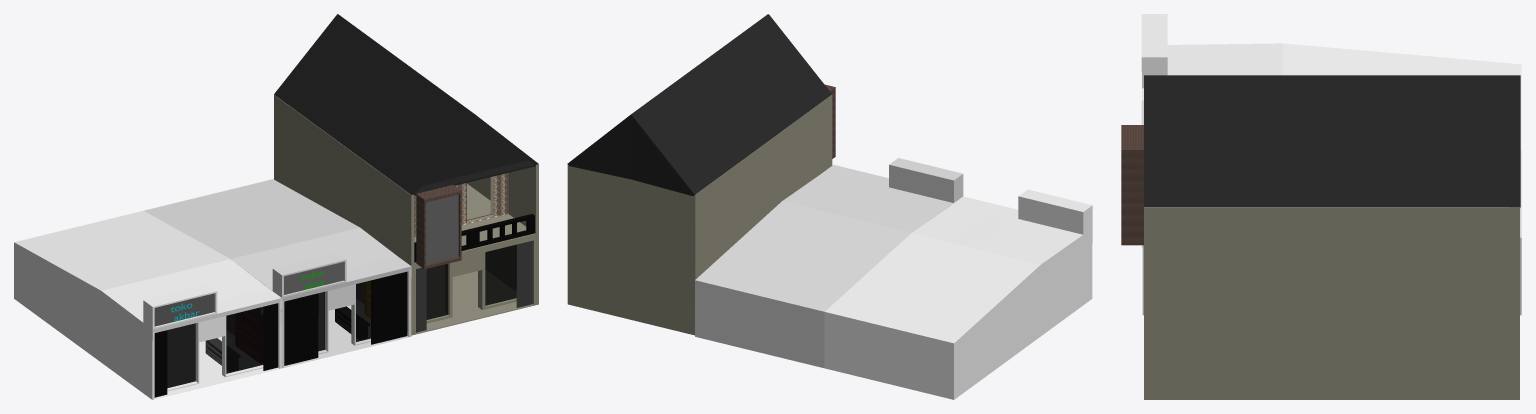
File: rumah&ruko.glb
The picture shows the model from 3 angles, left to right: view 1: azimuth 30°, elevation 25°; view 2: azimuth 150°, elevation 25°; view 3: azimuth 270°, elevation 25°; orthographic projection. The views are drawn at different scales.
Visible parts, largest first — view 1: Cube.004_10, Cube.005_11, Cube.020_2, Cube.015_6, warehouse_door.004_0, Cube.010_19, Cube.008_14, Cube.007_13, warehouse_door.005_18, Cube.022_1, Cube.011_20, Cube.006_12 (+5 smaller); view 2: Cube.004_10, Cube.015_6, Cube.020_2, Cube.005_11; view 3: Cube.020_2, Cube.005_11, Cube.004_10, Cube.022_1, Cube.015_6.
Boxes of the visible parts, x1=… form: Cube.004_10: x1=14, y1=210, x2=282, y2=399; Cube.005_11: x1=274, y1=14, x2=538, y2=195; Cube.020_2: x1=274, y1=95, x2=538, y2=335; Cube.015_6: x1=144, y1=179, x2=411, y2=368; warehouse_door.004_0: x1=284, y1=271, x2=407, y2=365; Cube.010_19: x1=167, y1=306, x2=263, y2=388; Cube.008_14: x1=426, y1=244, x2=516, y2=319; Cube.007_13: x1=426, y1=194, x2=458, y2=264; warehouse_door.005_18: x1=154, y1=303, x2=277, y2=397; Cube.022_1: x1=416, y1=184, x2=461, y2=269; Cube.011_20: x1=318, y1=280, x2=370, y2=351; Cube.006_12: x1=414, y1=214, x2=534, y2=262; Cube.004_10: x1=824, y1=189, x2=1092, y2=399; Cube.015_6: x1=695, y1=158, x2=963, y2=368; Cube.020_2: x1=567, y1=95, x2=832, y2=335; Cube.005_11: x1=567, y1=14, x2=831, y2=195; Cube.020_2: x1=1144, y1=207, x2=1520, y2=399; Cube.005_11: x1=1144, y1=75, x2=1520, y2=207; Cube.004_10: x1=1141, y1=14, x2=1521, y2=150; Cube.022_1: x1=1121, y1=125, x2=1143, y2=245; Cube.015_6: x1=1141, y1=100, x2=1521, y2=315.
Bounding box in the file's own units: 20.82 × 10.59 × 13.6.
23 materials, 4 textured.
